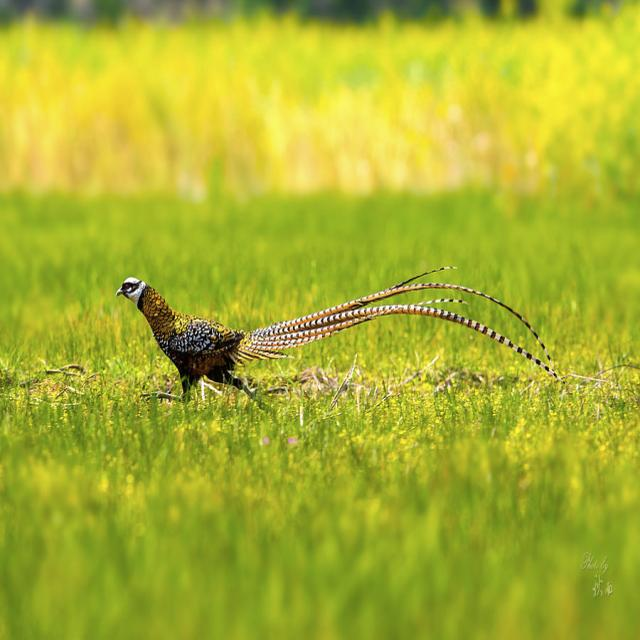Reeves-s Pheasant: (228, 267, 568, 386), (356, 288, 552, 370)
